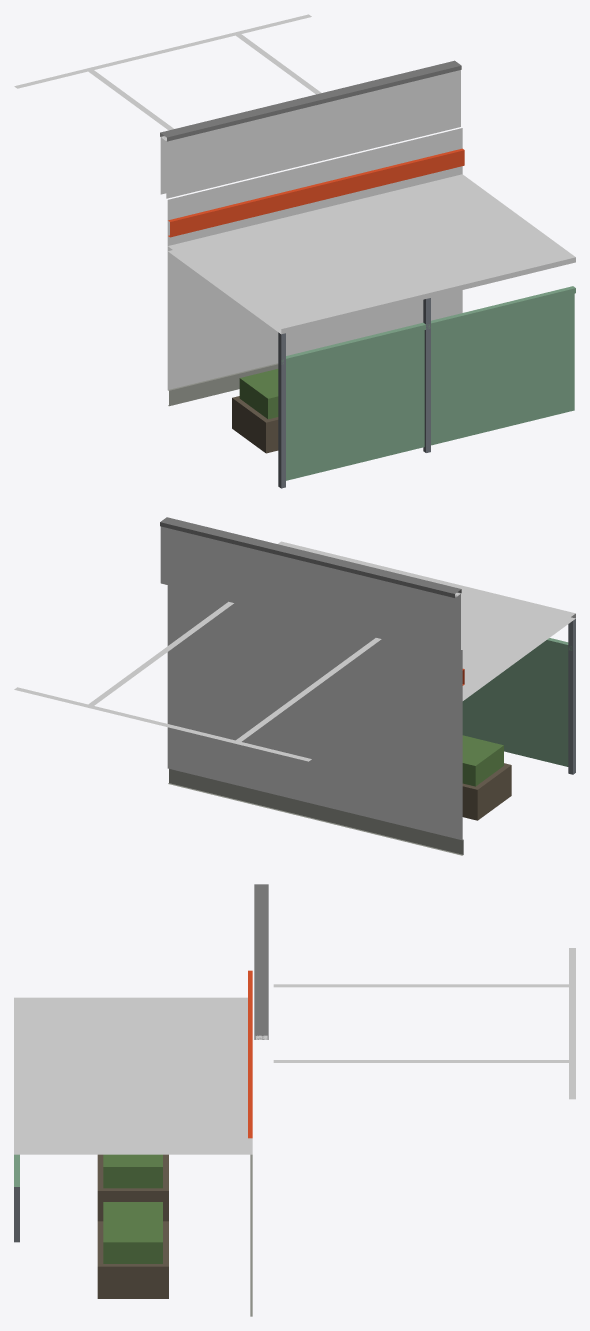
3 views of the same model, one above another, from view 1: azimuth 30°, elevation 25°; view 2: azimuth 150°, elevation 25°; view 3: azimuth 270°, elevation 25° (orthographic). The views are drawn at different scales.
Parts seen in each view (by area): view 1: a2008/0/base-w2; view 2: a2008/0/base-w2; view 3: a2008/0/base-w2.
Boxes of the visible parts, <box> form: a2008/0/base-w2: <box>14,14,575,488</box>; a2008/0/base-w2: <box>14,517,575,855</box>; a2008/0/base-w2: <box>14,884,575,1316</box>.
Size of the model in its own units: 6 by 5.2 by 9.42.
